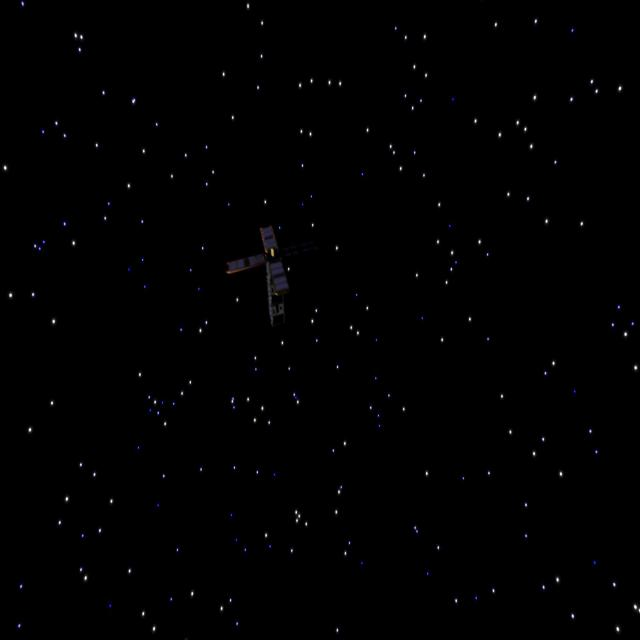satellite: (221, 221, 311, 324)
